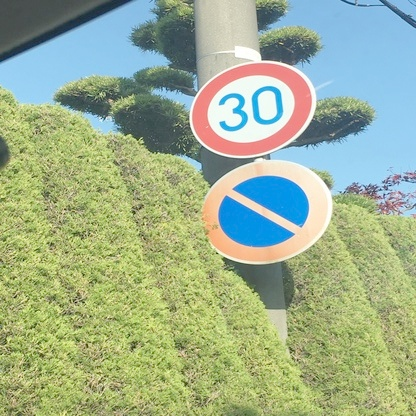Prohibition_sign: (196, 154, 344, 286)
Speed_sign: (187, 55, 321, 170)
